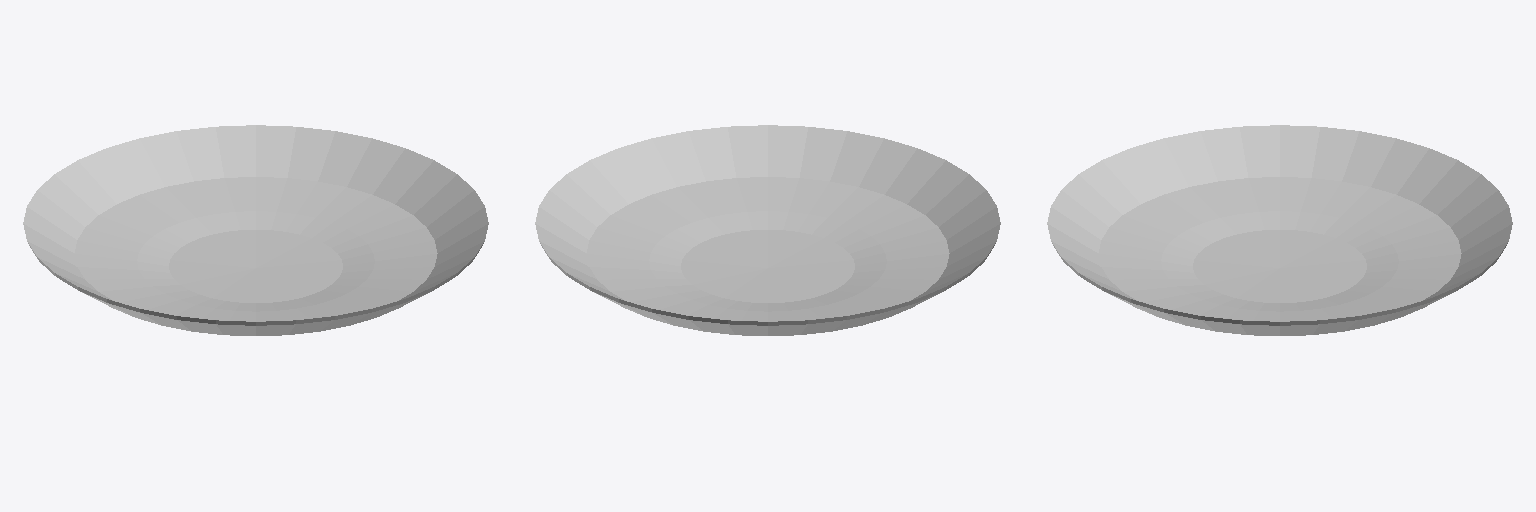
File: saucer2.obj
The picture shows the model from 3 angles: view 1: azimuth 30°, elevation 25°; view 2: azimuth 150°, elevation 25°; view 3: azimuth 270°, elevation 25°; orthographic projection.
Parts seen in each view (by area): view 1: saucer2; view 2: saucer2; view 3: saucer2.
Part boxes in pixels (left/top/right/bottom): saucer2: left=23, top=125, right=488, bottom=335; saucer2: left=535, top=125, right=1000, bottom=335; saucer2: left=1047, top=125, right=1512, bottom=335.
Bounding box in the file's own units: 154 × 23.66 × 154.